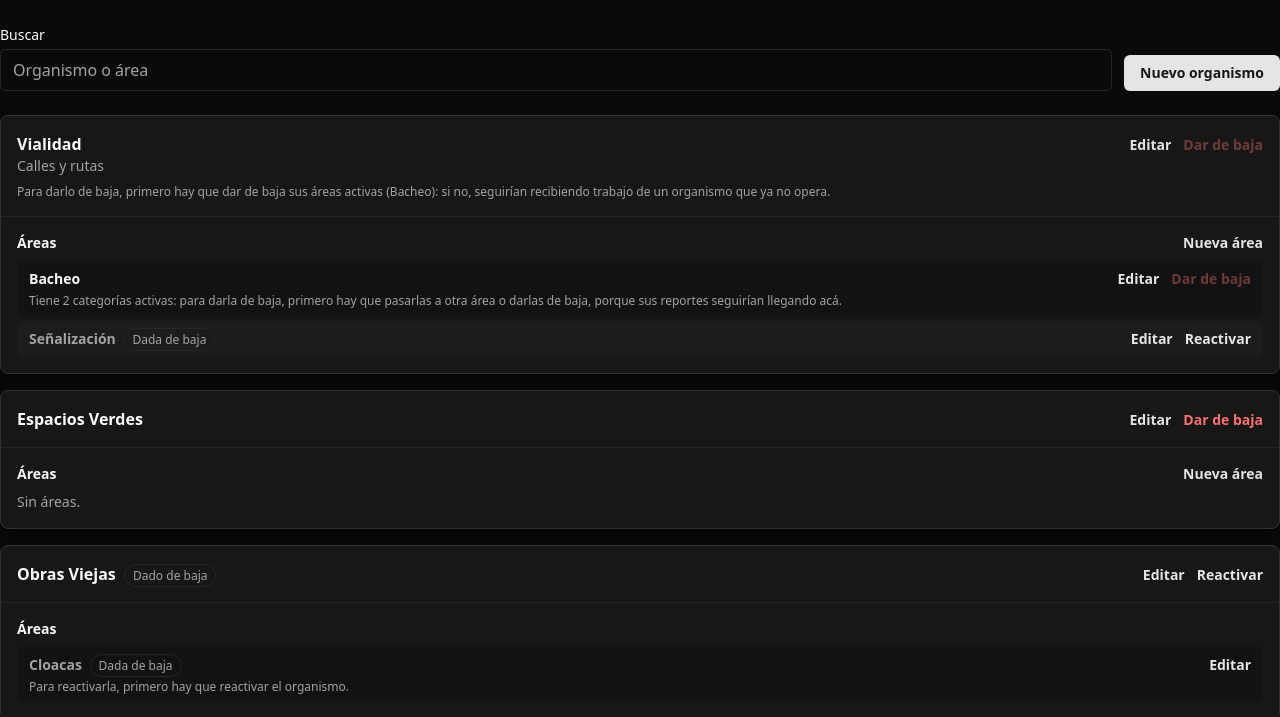
it: organismos y áreas (F16) › si el servidor rechaza la baja, muestra su motivo
The image size is (1280, 717).
(page scrolled)
Click the button with aria-label "Dar de baja Espacios Verdes".
click(1223, 420)  # box left=1183, top=410, right=1263, bottom=430
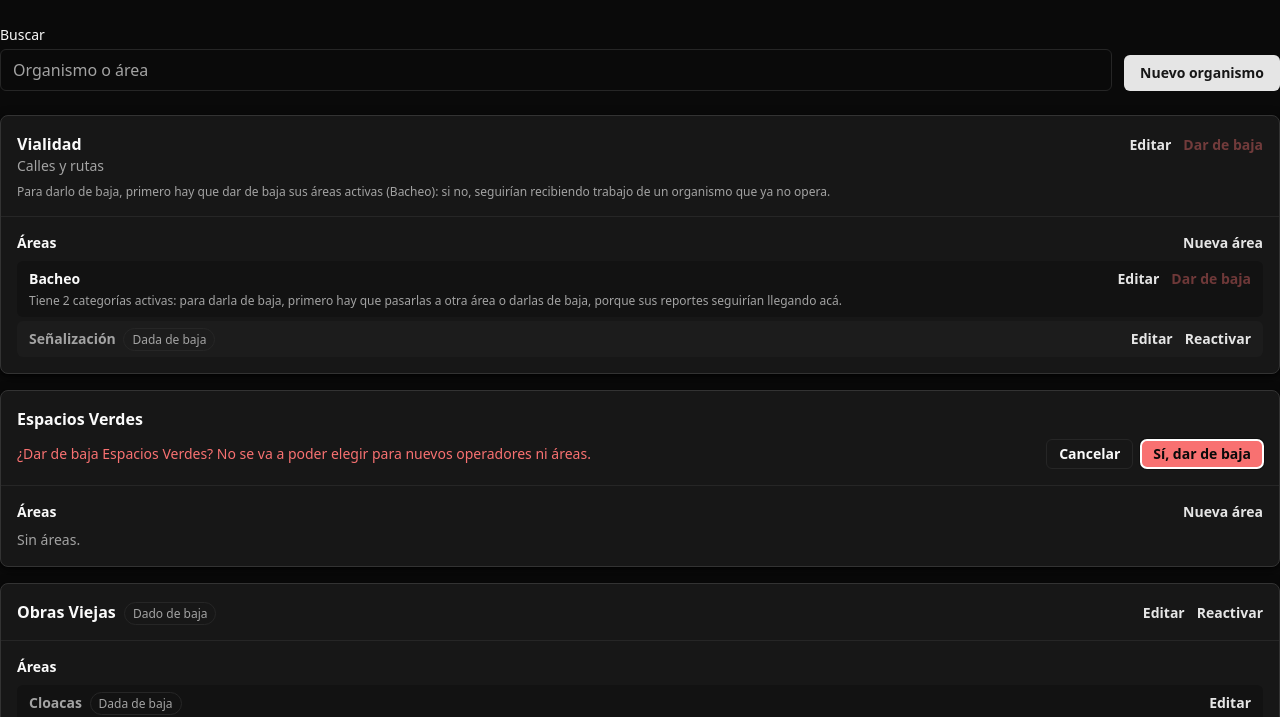
Click the button "Sí, dar de baja".
click(1202, 454)  # box left=1141, top=440, right=1263, bottom=468
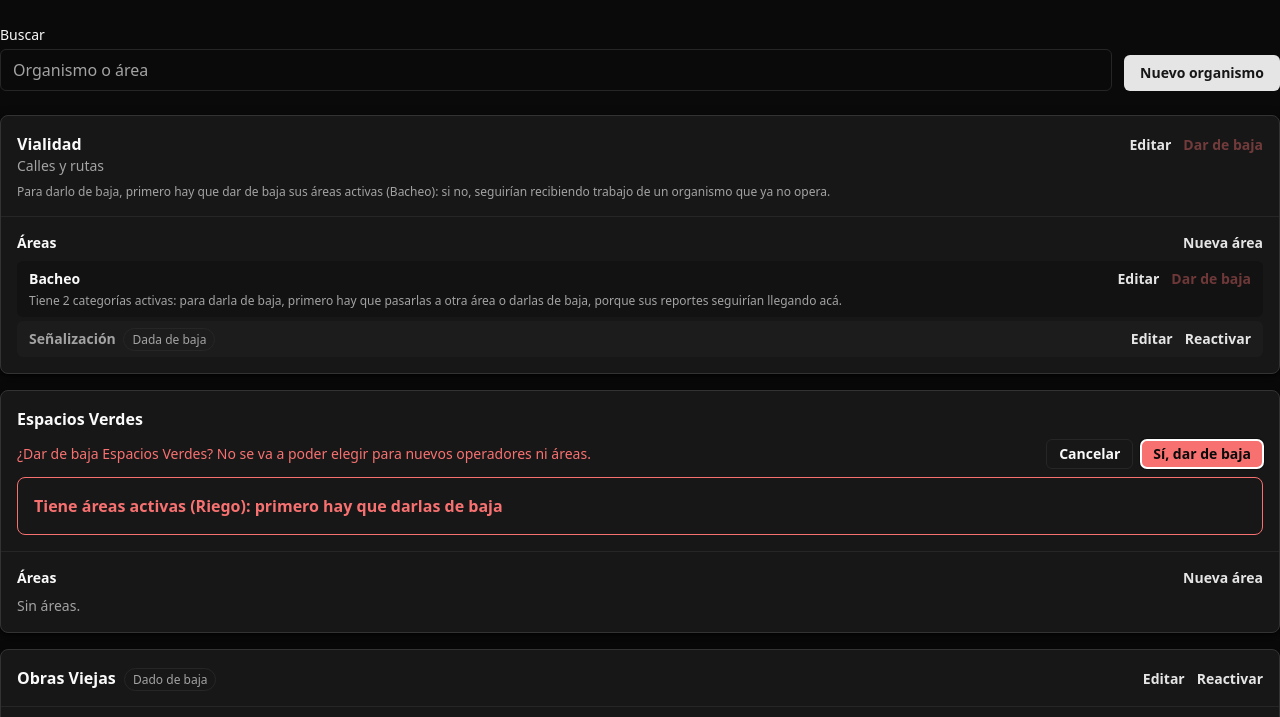
Result: the text "Tiene áreas activas (Riego): primero hay que darlas de baja" is shown at left=34, top=495, right=503, bottom=517
